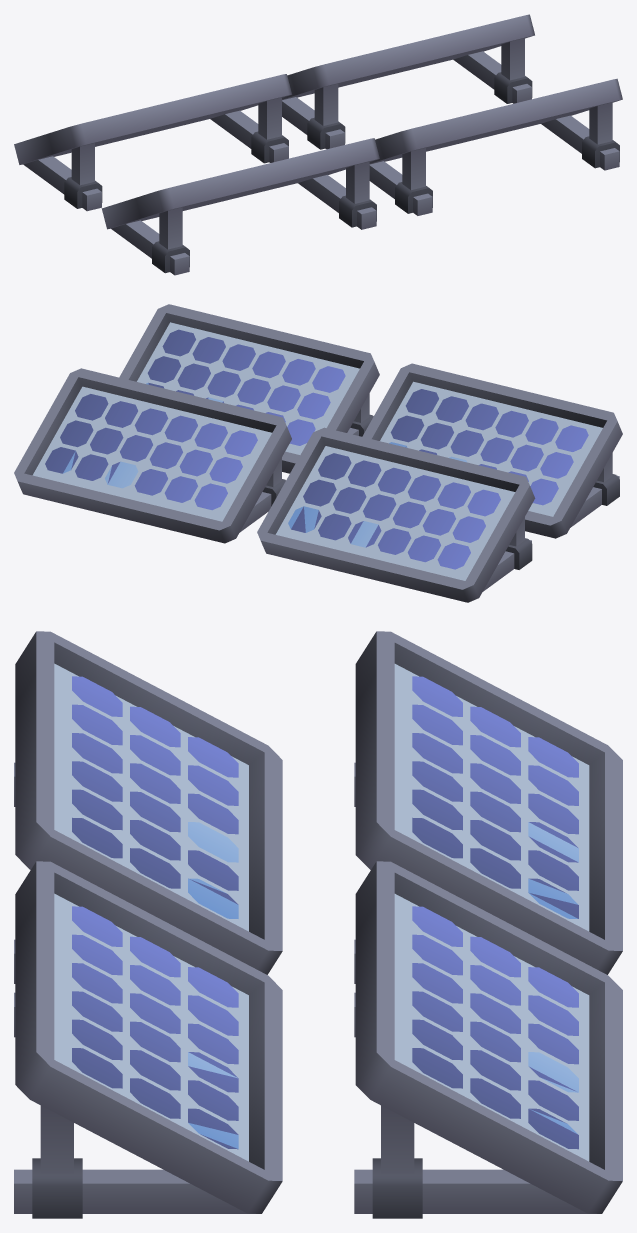
The model's file is C_solar-panel-landscape-group.obj.
3 renders of one model, top to bottom at view 1: azimuth 30°, elevation 25°; view 2: azimuth 150°, elevation 25°; view 3: azimuth 270°, elevation 25°, orthographic. The views are drawn at different scales.
Visible parts, largest first — view 1: solar-panel-landscape-group; view 2: solar-panel-landscape-group; view 3: solar-panel-landscape-group.
Boxes of the visible parts, <box> form: solar-panel-landscape-group: <box>14,14,622,275</box>; solar-panel-landscape-group: <box>14,304,622,602</box>; solar-panel-landscape-group: <box>14,631,622,1218</box>.
Size of the model in its own units: 1.51 by 0.2624 by 0.895.
2 materials, 2 textured.
